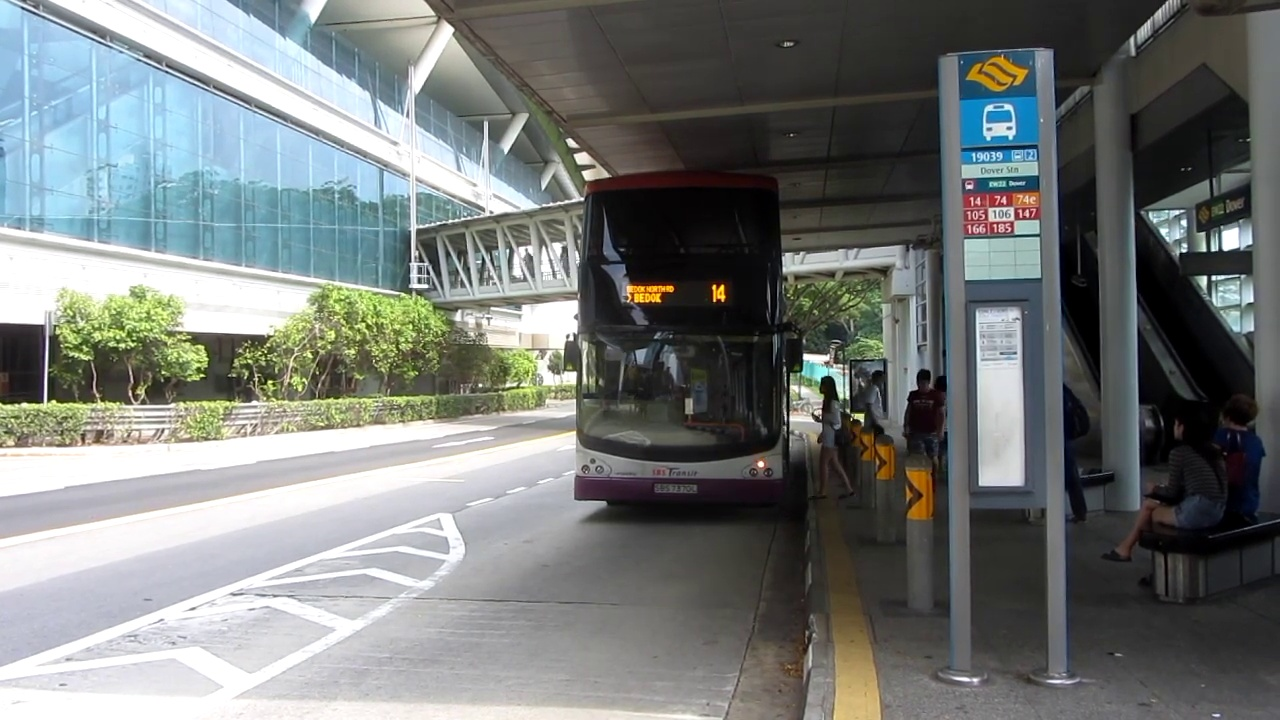bus panel: (619, 280, 732, 307)
